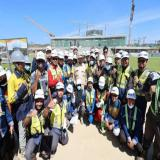Helmet: (10, 51, 27, 64), (34, 89, 44, 102), (137, 50, 149, 60), (126, 89, 136, 100), (36, 51, 46, 62), (56, 82, 65, 92), (24, 54, 32, 65), (121, 51, 130, 60), (111, 86, 119, 96), (98, 76, 105, 86), (67, 84, 73, 94), (87, 76, 94, 84), (106, 57, 113, 65), (51, 50, 58, 58), (99, 54, 105, 62), (68, 53, 74, 61), (58, 51, 64, 59), (115, 53, 122, 59), (90, 53, 96, 60), (46, 46, 52, 53), (76, 79, 82, 85), (64, 51, 69, 57), (74, 54, 78, 60), (86, 52, 90, 56)
Vest: (116, 64, 132, 100), (50, 98, 67, 130), (30, 109, 46, 137), (134, 68, 148, 99), (48, 66, 62, 82), (97, 88, 106, 108), (86, 88, 95, 106), (89, 64, 97, 84), (66, 65, 74, 82)
